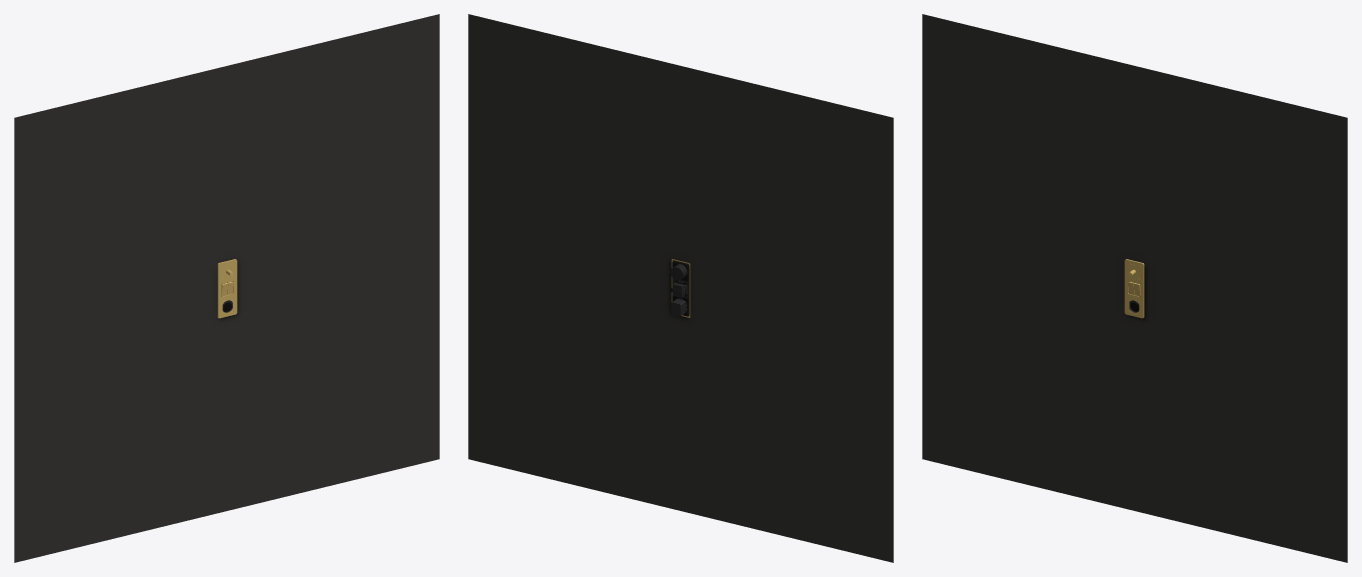
Rendered from tilqe-3gang.glb.
3 renders of one model, left to right at view 1: azimuth 30°, elevation 25°; view 2: azimuth 150°, elevation 25°; view 3: azimuth 330°, elevation 25°, orthographic.
Parts seen in each view (by area): view 1: Wall.001, Front Plate (TILQE).001; view 2: Wall.001; view 3: Wall.001, Front Plate (TILQE).001.
Boxes of the visible parts, x1=… form: Wall.001: x1=14, y1=14, x2=439, y2=562; Front Plate (TILQE).001: x1=217, y1=259, x2=237, y2=318; Wall.001: x1=468, y1=14, x2=893, y2=562; Wall.001: x1=922, y1=14, x2=1347, y2=562; Front Plate (TILQE).001: x1=1124, y1=259, x2=1144, y2=318.
Size of the model in its own units: 1.8 by 1.8 by 0.0717.
Materials: 9 (1 with a texture image).
